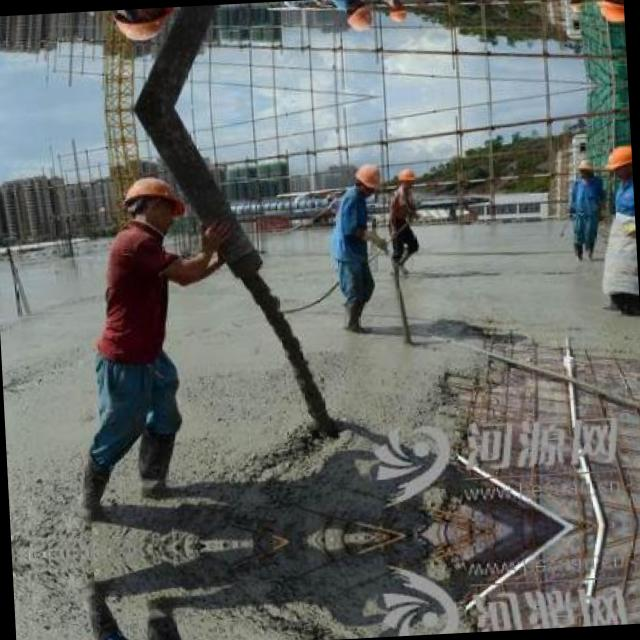helmet: (114, 170, 188, 234), (105, 7, 179, 48), (354, 159, 385, 200), (603, 144, 631, 188), (344, 0, 377, 37), (593, 0, 623, 27), (397, 168, 417, 192), (388, 0, 408, 23)
